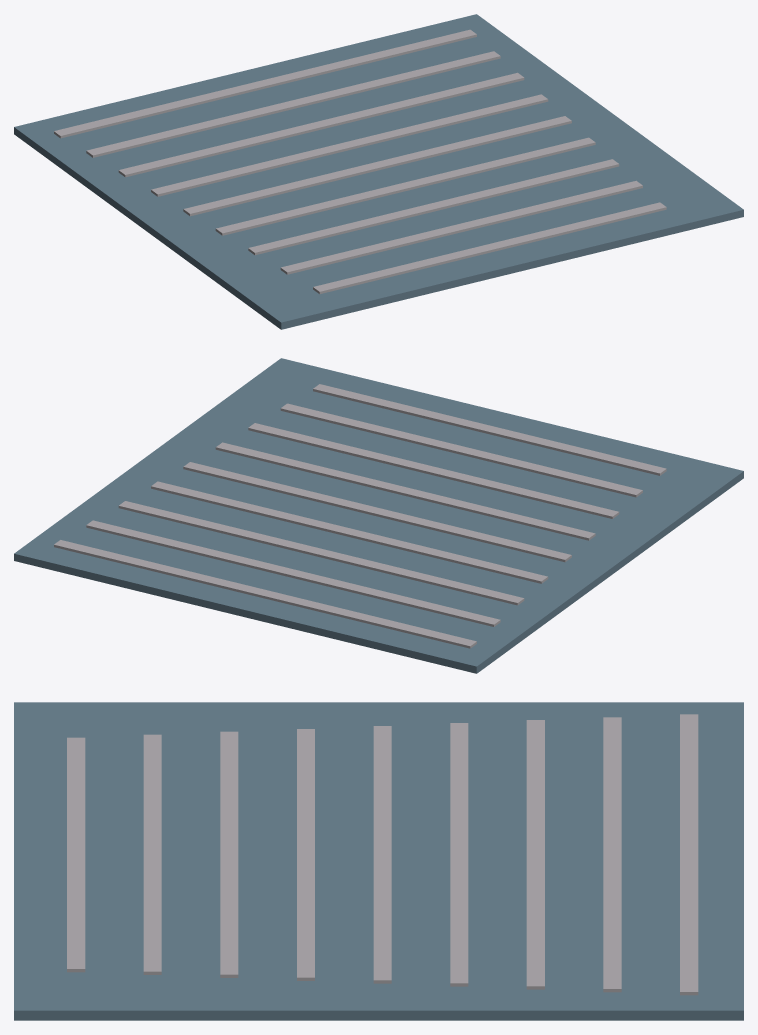
The model's file is mythic-underworld-and-olympus-styx-water-tile-ab35e57b__21369.glb.
3 views of the same model, one above another, from view 1: azimuth 30°, elevation 25°; view 2: azimuth 150°, elevation 25°; view 3: azimuth 270°, elevation 25° (orthographic). The views are drawn at different scales.
Visible parts, largest first — view 1: styx-water-tile; view 2: styx-water-tile; view 3: styx-water-tile.
Part boxes in pixels (x1,y1,x2,y2): styx-water-tile: [14, 14, 743, 329]; styx-water-tile: [14, 358, 743, 673]; styx-water-tile: [14, 702, 743, 1020].
Bounding box in the file's own units: 4 × 0.0801 × 4.
